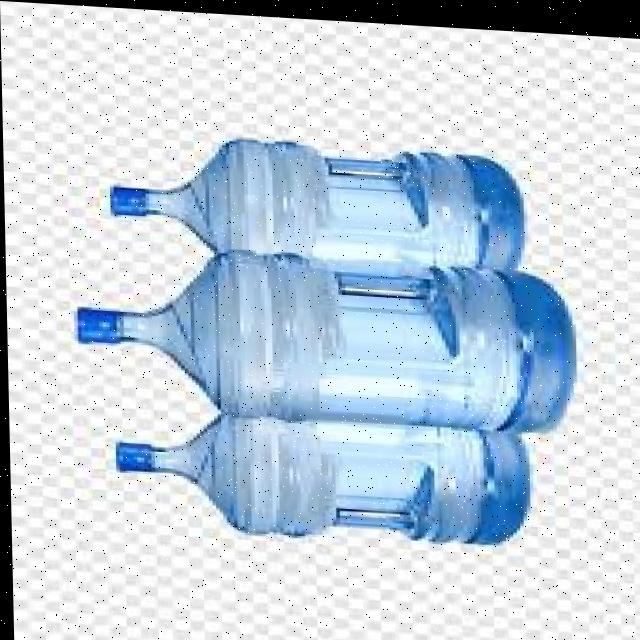bottle: (62, 100, 565, 537)
